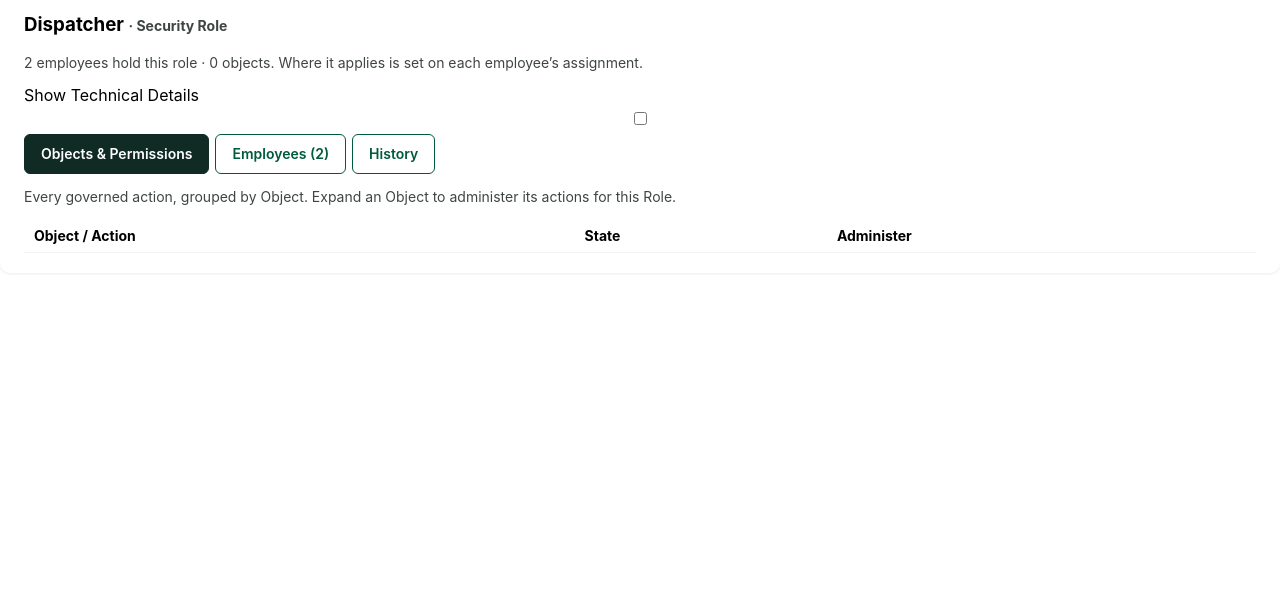
Test case: D5 Security Role holders: human-facing label never exposes the internal id › an unnamed holder reads 'Unnamed Principal'; a named holder keeps its name; the id is only a labelled diagnostic
Click the tab "Employees (2)". click: coordinates (281, 154)
box: x1=215 y1=134 x2=346 y2=174
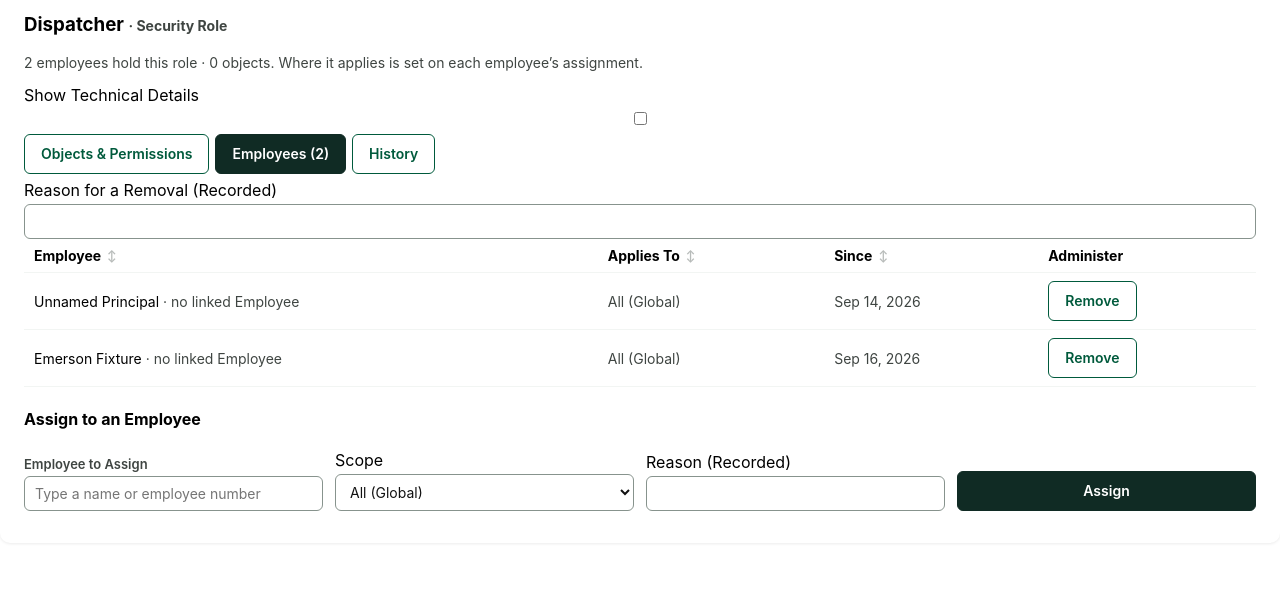
Click the checkbox labelled "Show Technical Details". click: coordinates (640, 119)
box: x1=28 y1=112 x2=1253 y2=125
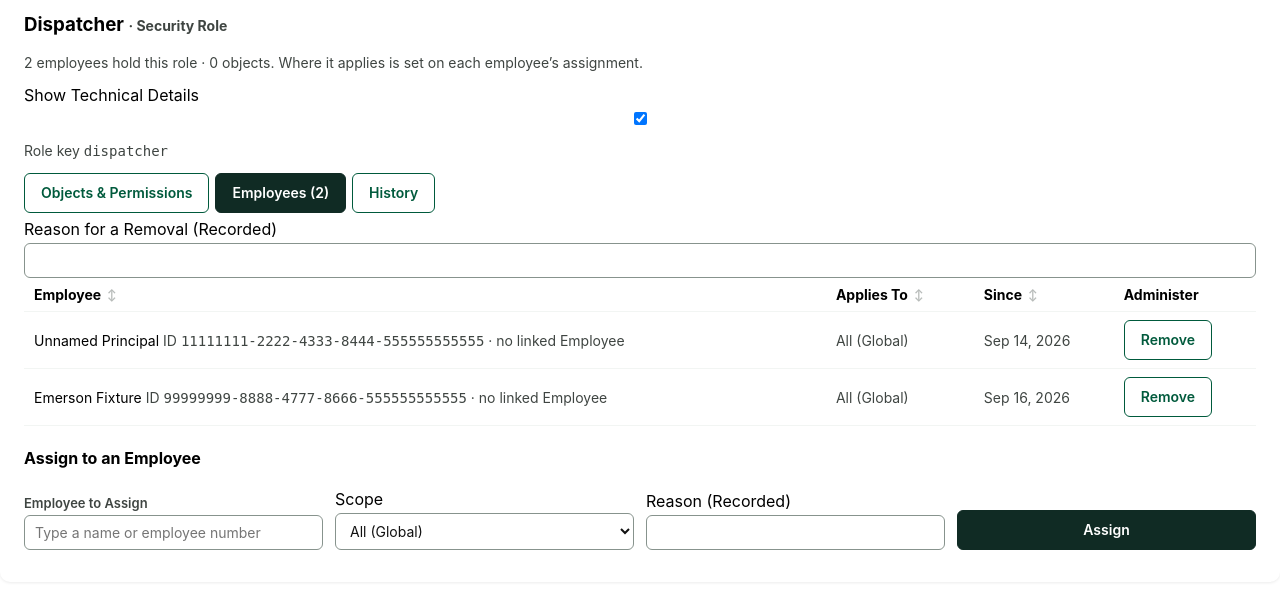
Expected: the element showing "ID 11111111-2222-4333-8444-555555555555" is shown, x1=163 y1=332 x2=484 y2=349
